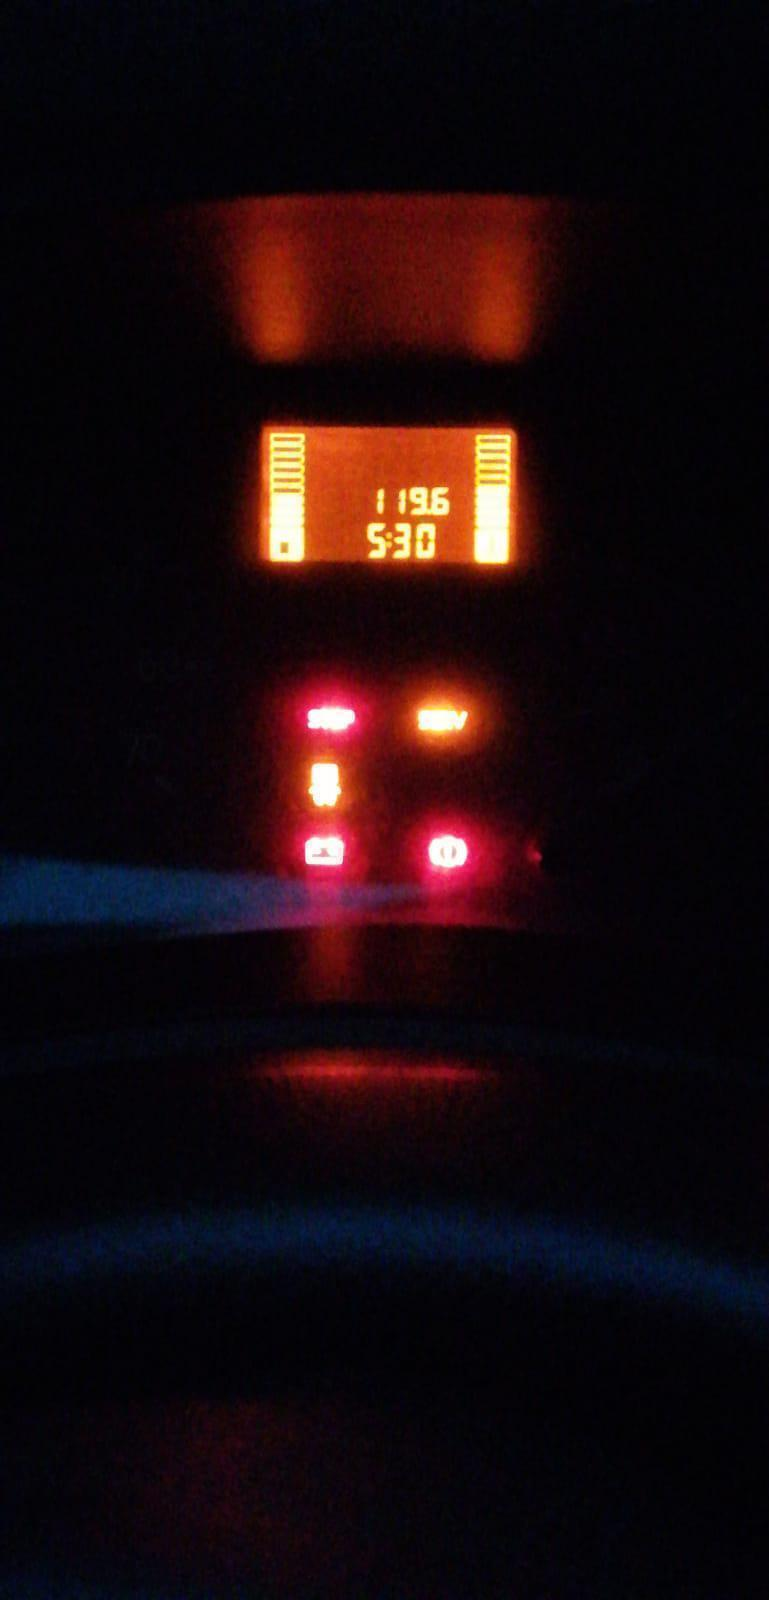,: (427, 507, 430, 516)
0: (414, 522, 435, 559)
1: (397, 488, 407, 515), (375, 486, 385, 514)
3: (392, 522, 411, 559)
5: (365, 521, 386, 559)
6: (430, 486, 449, 516)
9: (408, 486, 427, 515)
X: (385, 531, 393, 548)
odometer: (256, 424, 521, 567)
